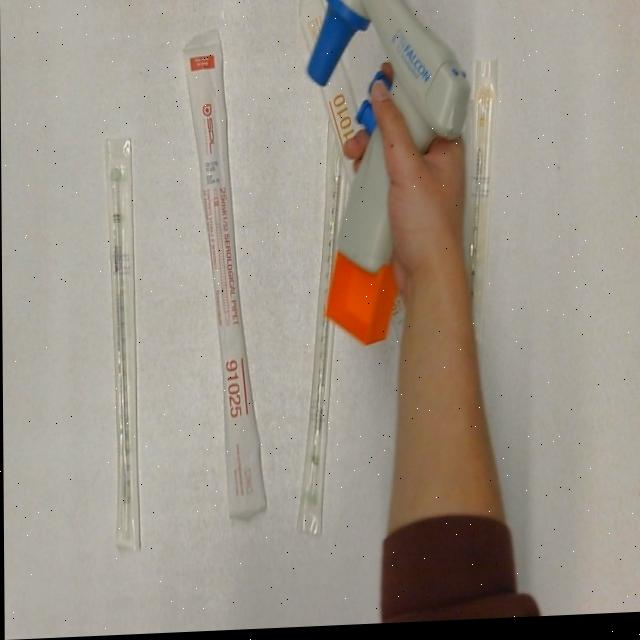Pipette Controller: (300, 0, 465, 357)
Serelogical Pipet 1 mL - Sealed: (449, 54, 504, 371)
Serelogical Pipet 10 mL - Sealed: (296, 0, 374, 191)
Serelogical Pipet 2 mL - Sealed: (290, 108, 354, 544), (105, 125, 140, 558)
Serelogical Pipet 25 mL - Sealed: (182, 23, 271, 531)
